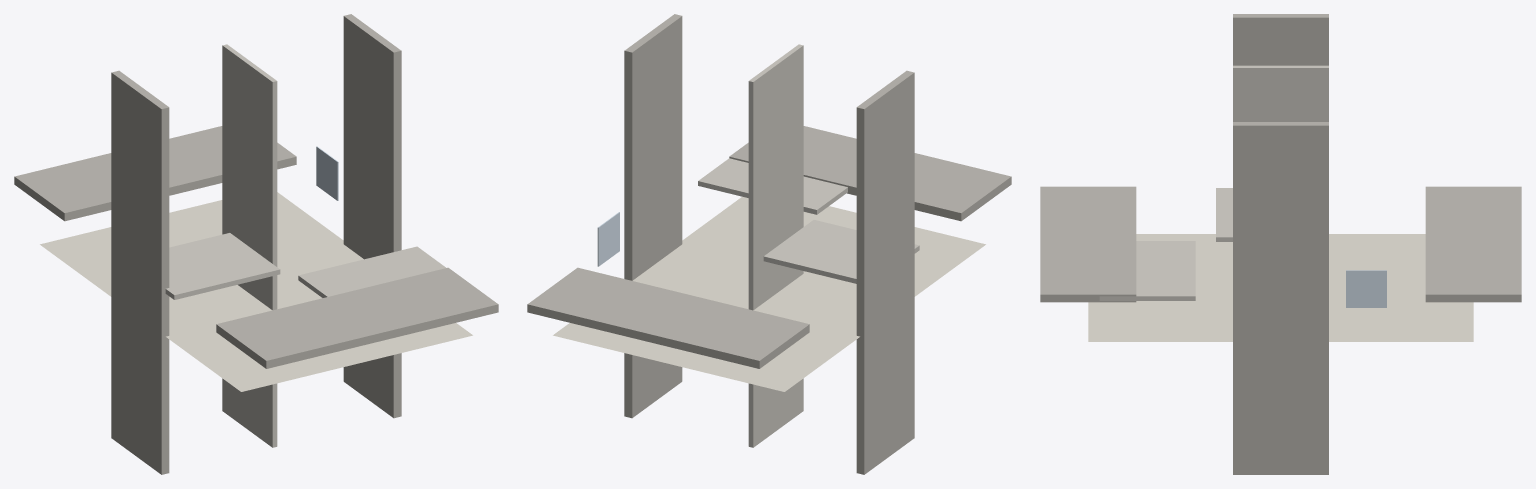
The model's file is villa_B1.glb.
The picture shows the model from 3 angles, left to right: view 1: azimuth 30°, elevation 25°; view 2: azimuth 150°, elevation 25°; view 3: azimuth 270°, elevation 25°; orthographic projection. The views are drawn at different scales.
Parts seen in each view (by area): view 1: ExtWall_W, ExtWall_E, ExtWall_N, DivWall, Slab_B1, ExtWall_S, Floor_Tea, HWall_Mid, HWall_Top, Floor_Op, Floor_Glass, Floor_Garage (+1 smaller); view 2: ExtWall_W, Slab_B1, ExtWall_E, DivWall, ExtWall_S, ExtWall_N, Floor_Op, HWall_Mid, Floor_Tea, HWall_Top, Floor_Garage, Win_E (+1 smaller); view 3: ExtWall_E, Slab_B1, ExtWall_S, ExtWall_N, DivWall, ExtWall_W, HWall_Top, Win_E, Floor_Op, HWall_Mid, Floor_Tea.
Part boxes in pixels (x1,y1,x2,y2): ExtWall_W: [111, 70, 169, 474]; ExtWall_E: [343, 14, 401, 418]; ExtWall_N: [216, 267, 498, 368]; DivWall: [222, 44, 277, 447]; Slab_B1: [40, 192, 472, 391]; ExtWall_S: [14, 126, 296, 221]; Floor_Tea: [166, 300, 346, 391]; HWall_Mid: [165, 233, 280, 299]; HWall_Top: [298, 246, 445, 297]; Floor_Op: [40, 227, 170, 293]; Floor_Glass: [337, 334, 454, 364]; Floor_Garage: [169, 196, 343, 256]; ExtWall_W: [856, 70, 914, 474]; Slab_B1: [553, 196, 985, 391]; ExtWall_E: [624, 14, 682, 418]; DivWall: [748, 44, 803, 447]; ExtWall_S: [527, 267, 809, 368]; ExtWall_N: [729, 126, 1011, 221]; Floor_Op: [679, 332, 852, 391]; HWall_Mid: [763, 220, 919, 283]; Floor_Tea: [789, 227, 984, 302]; HWall_Top: [698, 158, 847, 214]; Floor_Garage: [570, 323, 688, 361]; Win_E: [597, 212, 619, 266]; ExtWall_E: [1233, 122, 1328, 474]; Slab_B1: [1088, 234, 1473, 341]; ExtWall_S: [1425, 186, 1521, 302]; ExtWall_N: [1040, 186, 1136, 302]; DivWall: [1233, 65, 1328, 121]; ExtWall_W: [1233, 14, 1328, 65]; HWall_Top: [1099, 241, 1195, 300]; Win_E: [1346, 270, 1386, 307]; Floor_Op: [1344, 234, 1425, 255]; HWall_Mid: [1216, 188, 1232, 241]; Floor_Tea: [1136, 234, 1232, 255].
Bounding box in the file's own units: 7.72 × 11.26 × 14.06.
